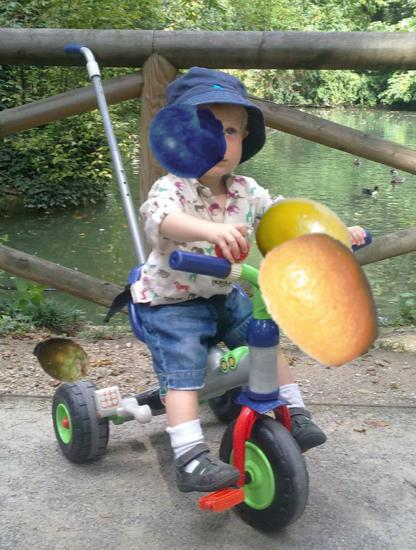Cactus: (32, 328, 93, 389)
Huckleberry: (148, 99, 227, 178)
Kumquats: (251, 229, 390, 368)
Maracuja: (252, 188, 355, 291)
